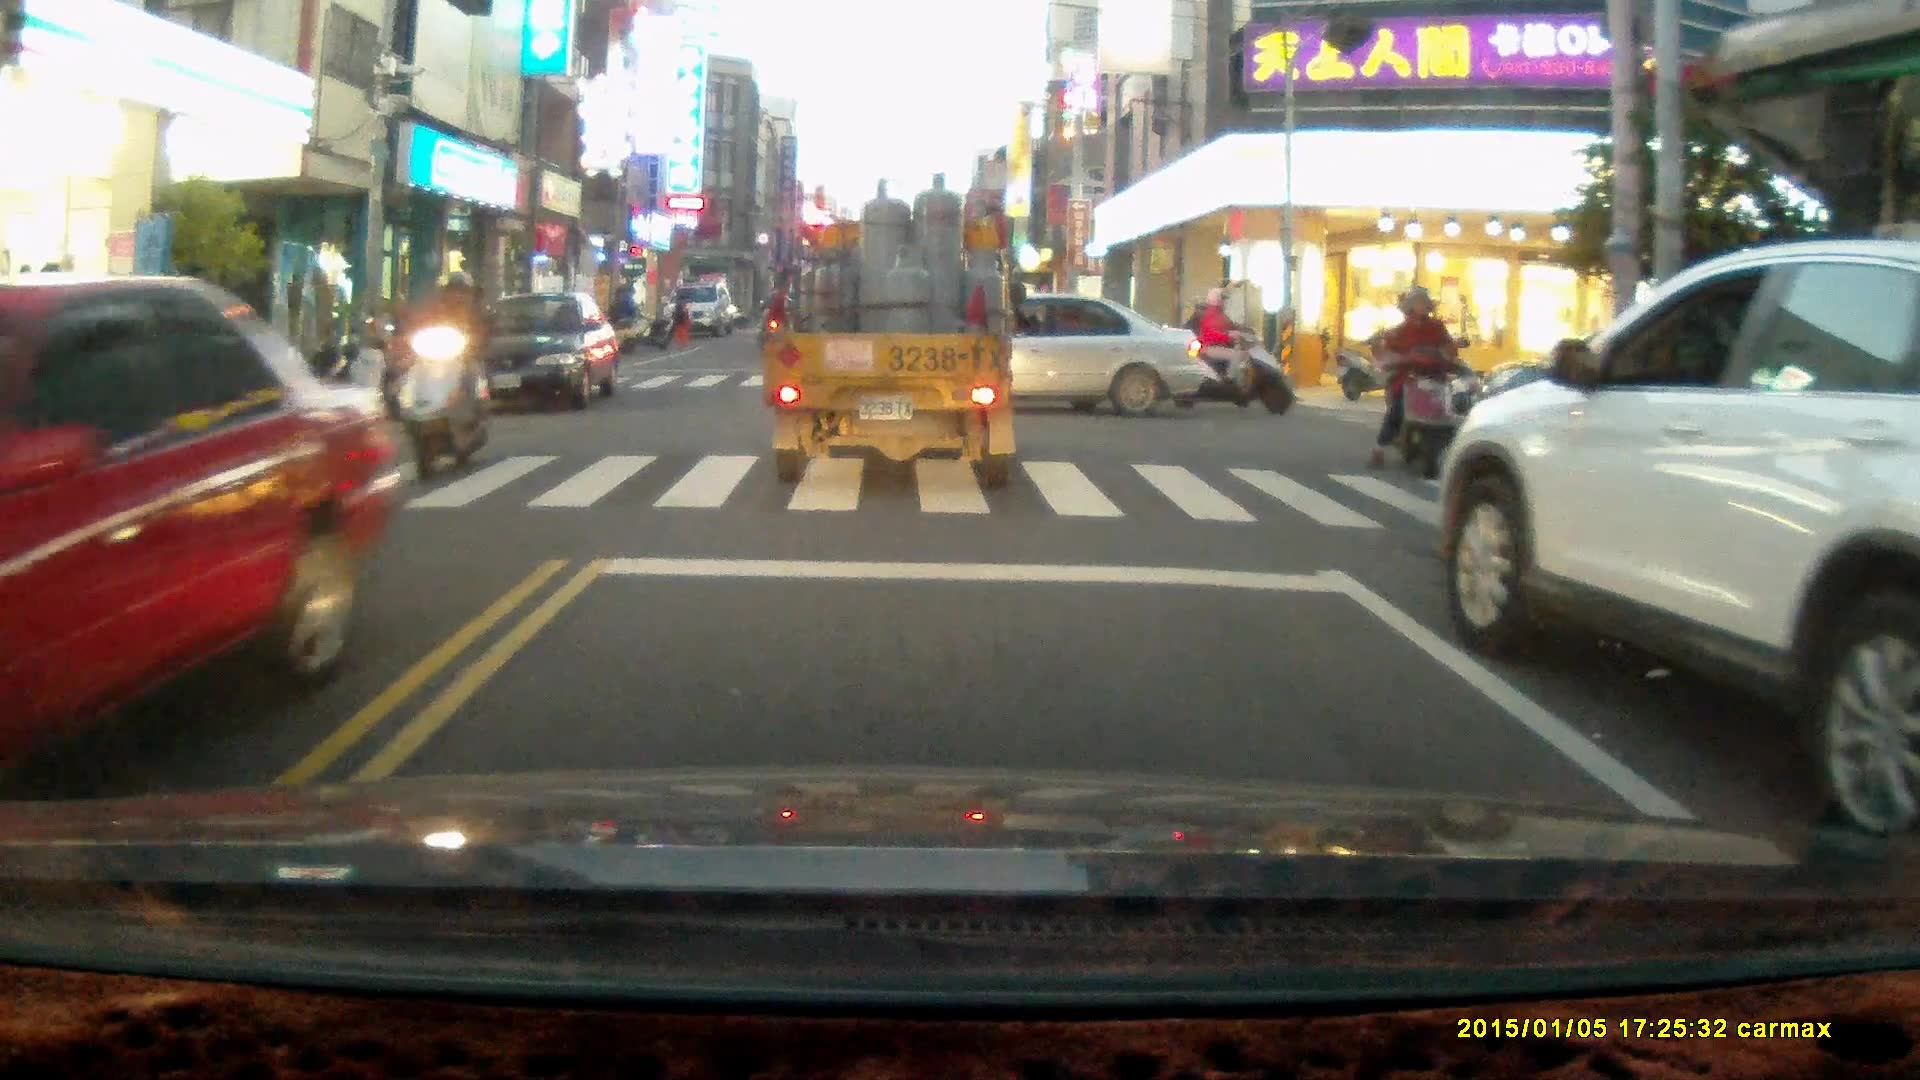pedestrian: (343, 329, 392, 436), (613, 283, 640, 346)
rider: (1362, 285, 1479, 485), (394, 271, 494, 486), (1167, 284, 1293, 412)
vehicle: (1437, 238, 1920, 832), (1, 275, 393, 798), (767, 177, 1025, 494), (838, 290, 1209, 418), (456, 290, 624, 416), (663, 283, 733, 336)
